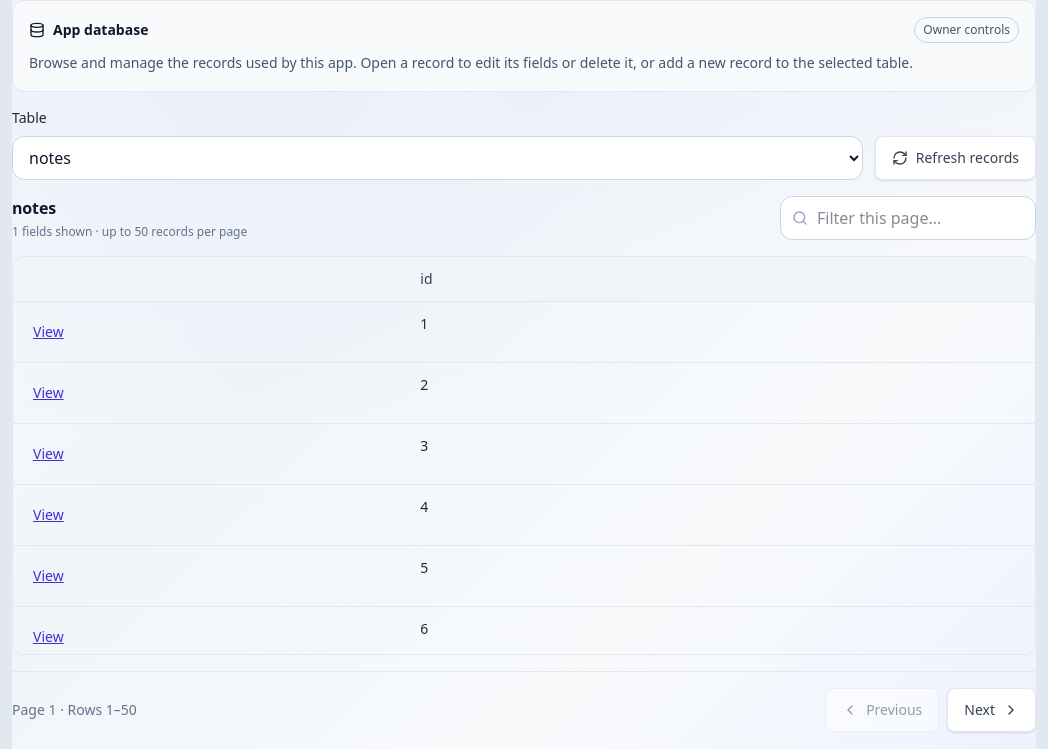
Scenario: follows the server’s effective offset and stops at the browsing window
This screenshot has width=1048, height=749.
Click the button "Next" at coordinates (992, 710), box [947,688,1036,732]
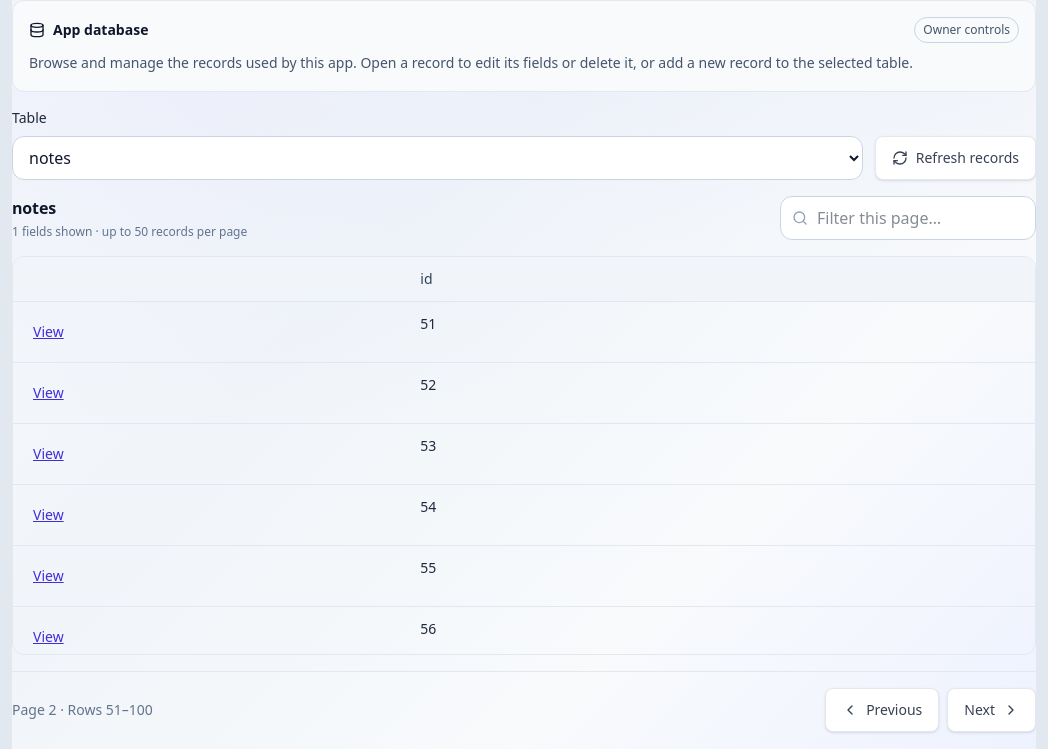
Expected: the text "Page 2 · Rows 51–100" is shown, [12,700,153,720]
Click the button "Next" at coordinates (992, 710), box [947,688,1036,732]
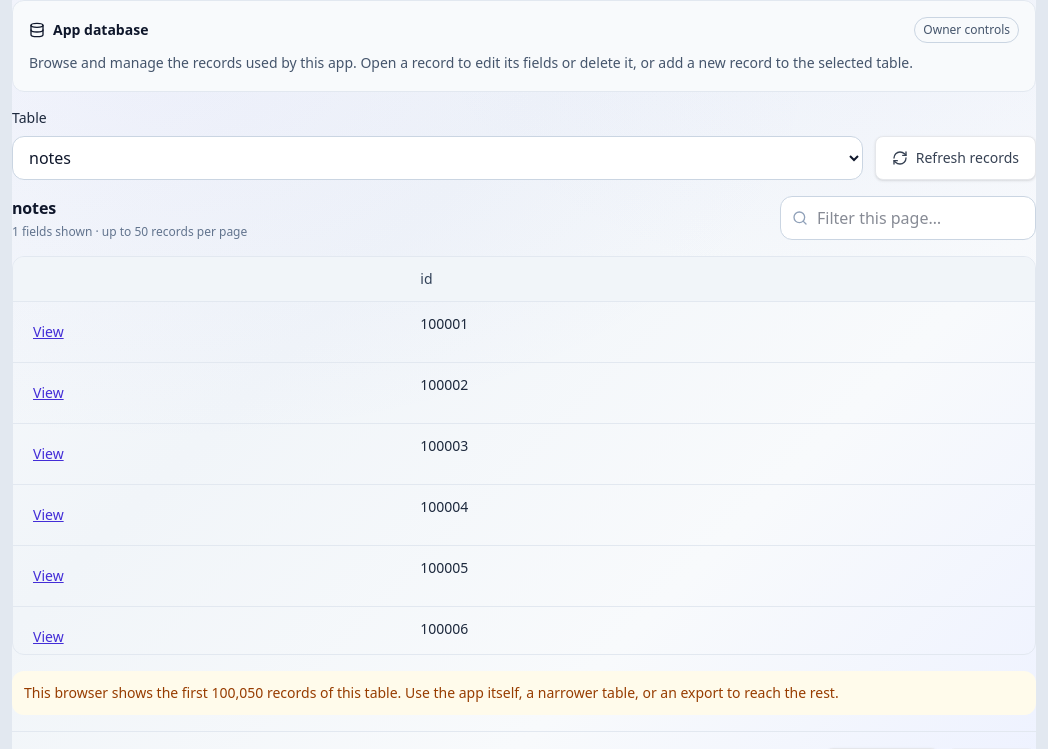
Expected: the message shows "first 100,050 records", [12,671,1036,715]
